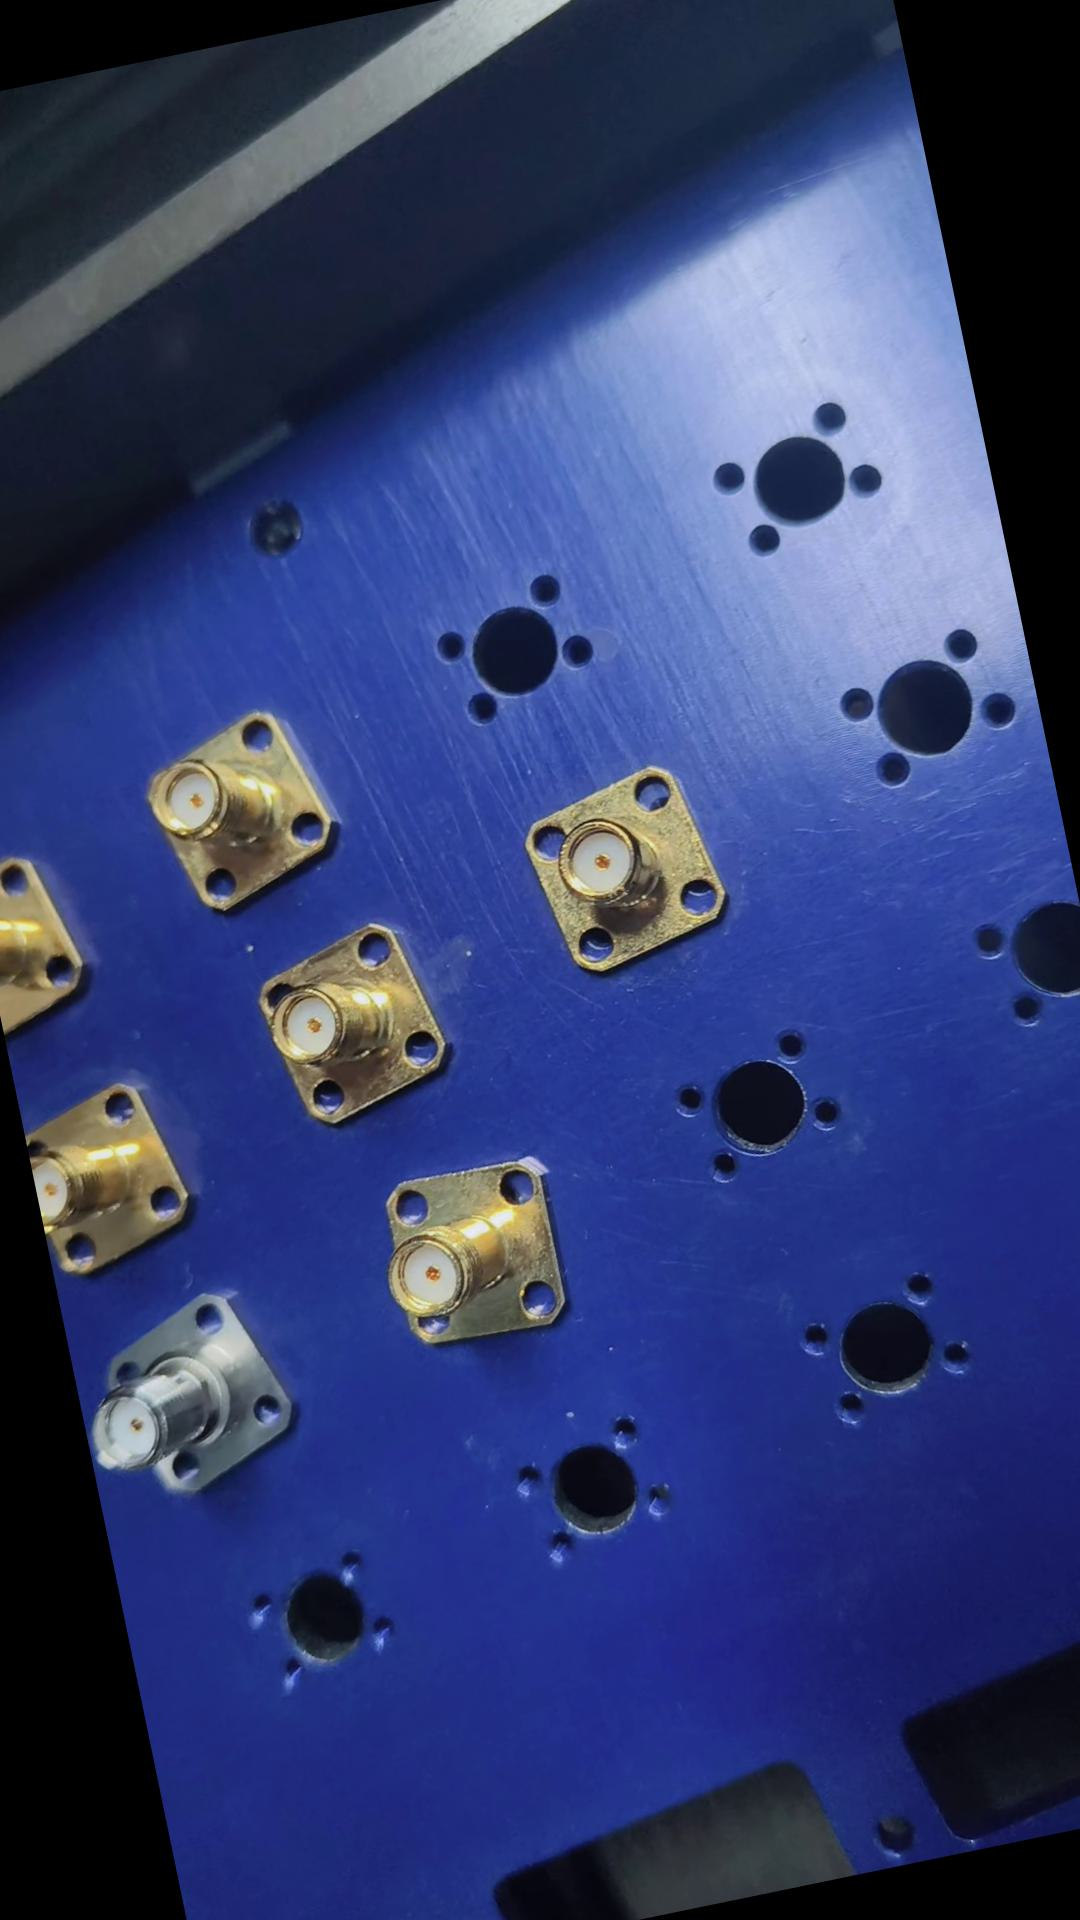SMA: (70, 1273, 314, 1515), (142, 694, 361, 938), (517, 752, 738, 984), (251, 899, 462, 1137), (375, 1145, 589, 1358), (18, 1068, 210, 1280)
